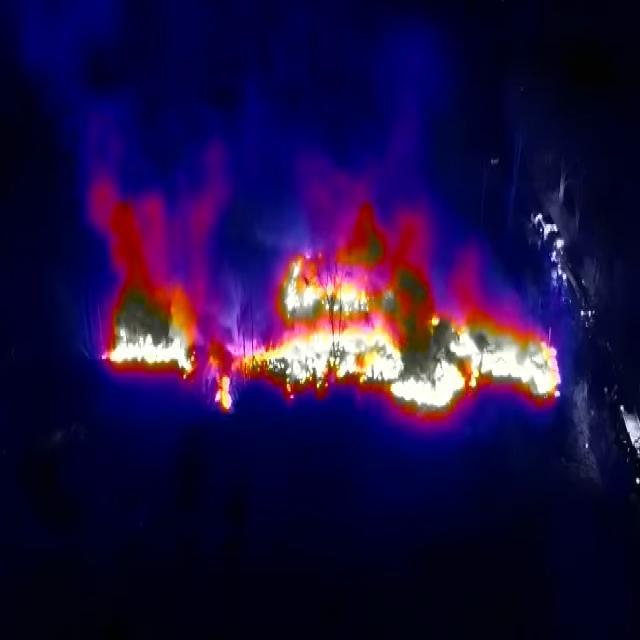fire: (215, 235, 564, 420), (100, 218, 204, 378)
